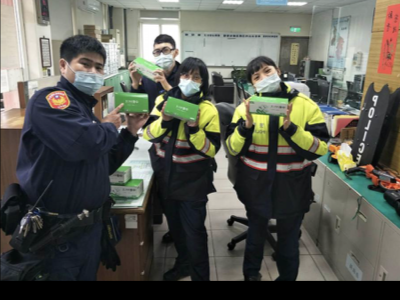with_mask: (66, 55, 105, 95), (251, 65, 281, 95), (177, 71, 202, 96), (152, 45, 175, 70)
